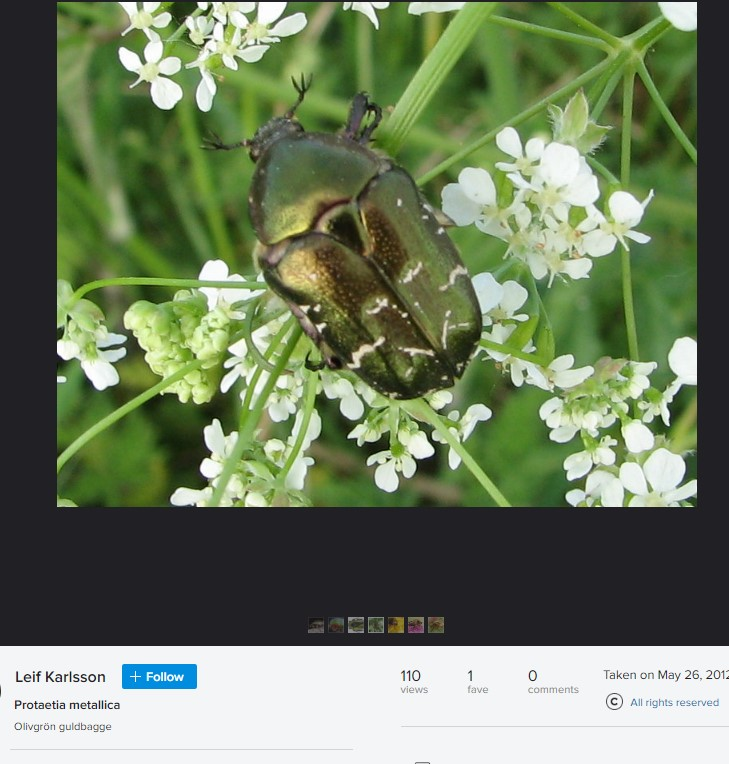Protaetia_metallica: (197, 72, 487, 418)
